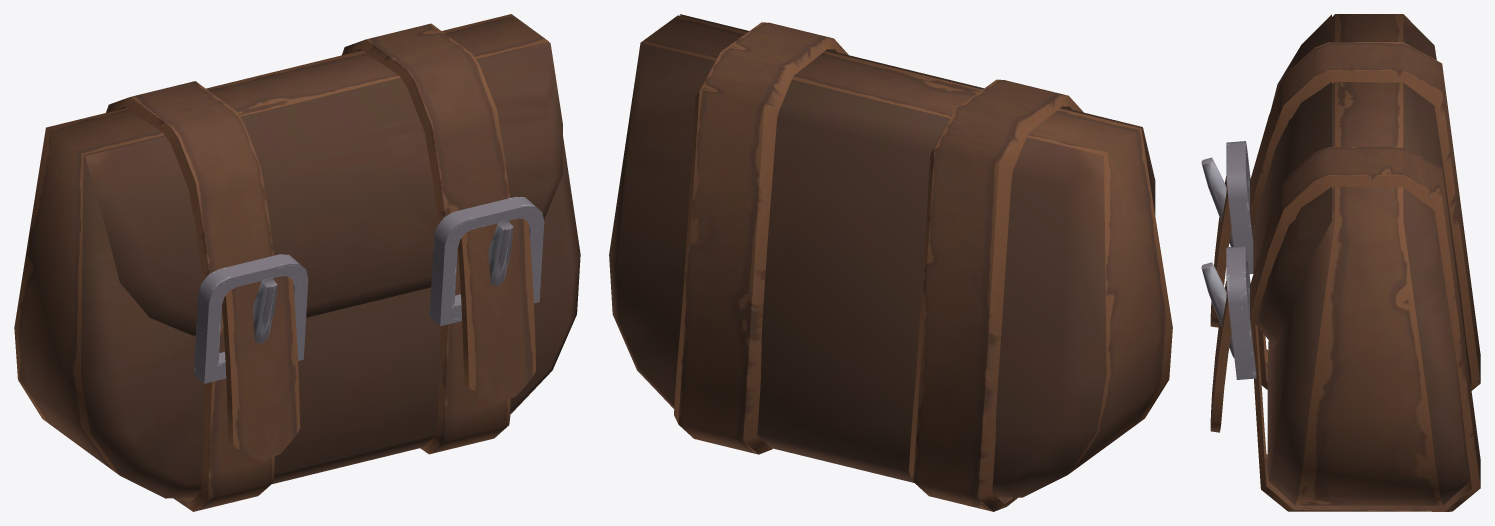
Rendered from Pouch_Large.gltf.
3 views of the same model, side by side, from view 1: azimuth 30°, elevation 25°; view 2: azimuth 150°, elevation 25°; view 3: azimuth 270°, elevation 25° (orthographic). The views are drawn at different scales.
Visible parts, largest first — view 1: Pouch_Large; view 2: Pouch_Large; view 3: Pouch_Large.
Boxes of the visible parts, x1,y1,x2,y2 form: Pouch_Large: [14, 14, 580, 511]; Pouch_Large: [609, 14, 1172, 511]; Pouch_Large: [1201, 14, 1480, 511].
Bounding box in the file's own units: 0.2255 × 0.1591 × 0.1198.
Materials: 2 (2 with a texture image).
